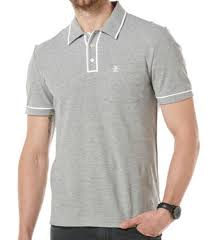C_polo shirt: (22, 13, 203, 238)
